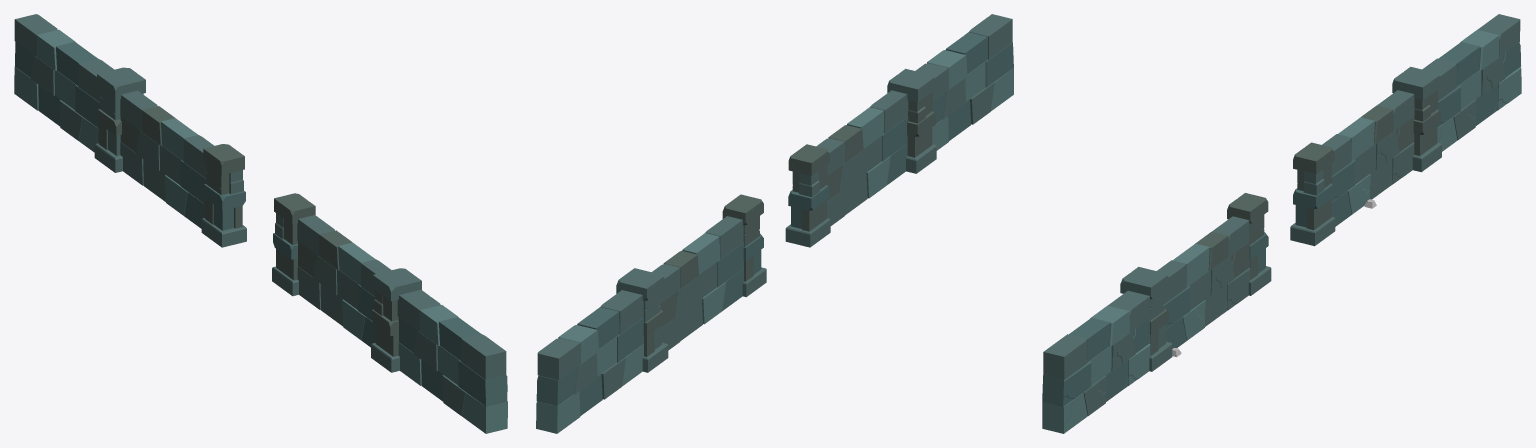
The model's file is Wall_Style2.fbx.
3 renders of one model, left to right at view 1: azimuth 30°, elevation 25°; view 2: azimuth 150°, elevation 25°; view 3: azimuth 330°, elevation 25°, orthographic.
Parts seen in each view (by area): view 1: Cube.015, Cube.006, Cube.002, Cube.033, Cube.170, Cube.171, Cube.030, Cube.173, Cube.059, Cube.032, Cube.040, Cube.028 (+40 smaller); view 2: Cube.171, Cube.184, Cube.015, Cube.033, Cube.174, Cube.170, Cube.175, Cube.173, Cube.030, Cube.040, Cube.044, Cube.027 (+42 smaller); view 3: Cube.015, Cube.006, Cube.002, Cube.170, Cube.033, Cube.030, Cube.173, Cube.059, Cube.171, Cube.032, Cube.028, Cube.040 (+41 smaller).
Part boxes in pixels (bbox=[...]): Cube.015: bbox=[461, 334, 506, 379]; Cube.006: bbox=[458, 360, 507, 406]; Cube.002: bbox=[462, 392, 507, 433]; Cube.033: bbox=[372, 268, 421, 301]; Cube.170: bbox=[97, 67, 145, 100]; Cube.171: bbox=[14, 14, 57, 56]; Cube.030: bbox=[439, 317, 480, 360]; Cube.173: bbox=[56, 42, 97, 85]; Cube.059: bbox=[203, 144, 244, 174]; Cube.032: bbox=[397, 290, 440, 331]; Cube.040: bbox=[274, 193, 315, 224]; Cube.028: bbox=[161, 118, 197, 161]; Cube.171: bbox=[537, 338, 580, 380]; Cube.184: bbox=[536, 391, 580, 433]; Cube.015: bbox=[969, 14, 1012, 59]; Cube.033: bbox=[887, 68, 935, 102]; Cube.174: bbox=[600, 290, 643, 334]; Cube.170: bbox=[616, 268, 664, 300]; Cube.175: bbox=[536, 367, 577, 406]; Cube.173: bbox=[577, 307, 619, 348]; Cube.030: bbox=[946, 32, 987, 74]; Cube.040: bbox=[788, 144, 829, 175]; Cube.044: bbox=[870, 90, 908, 133]; Cube.027: bbox=[705, 216, 743, 259]; Cube.015: bbox=[1043, 334, 1087, 379]; Cube.006: bbox=[1042, 360, 1091, 406]; Cube.002: bbox=[1042, 392, 1087, 433]; Cube.170: bbox=[1392, 66, 1441, 100]; Cube.033: bbox=[1120, 266, 1169, 299]; Cube.030: bbox=[1069, 318, 1110, 362]; Cube.173: bbox=[1439, 42, 1480, 86]; Cube.059: bbox=[1293, 142, 1334, 174]; Cube.171: bbox=[1477, 14, 1520, 56]; Cube.032: bbox=[1108, 290, 1150, 332]; Cube.028: bbox=[1338, 117, 1374, 160]; Cube.040: bbox=[1227, 193, 1268, 223].
Size of the model in its own units: 220 by 459 by 4610.
